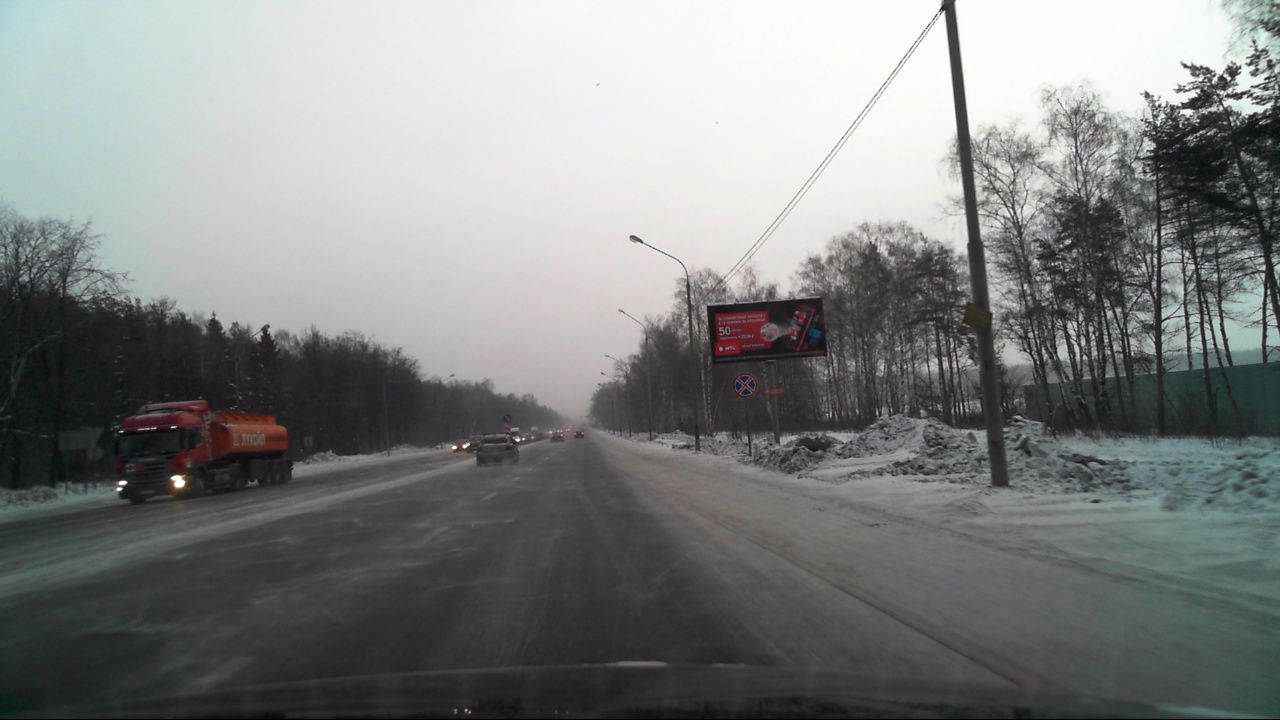No Parking: (733, 371, 757, 399)
